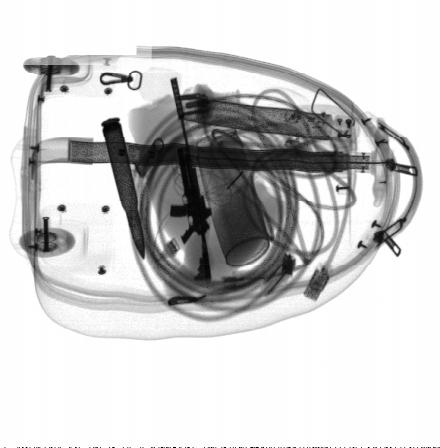Bullet: (99, 117, 144, 261)
Gun: (170, 76, 212, 280)
